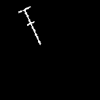double_crochet: (19, 7, 40, 43)
